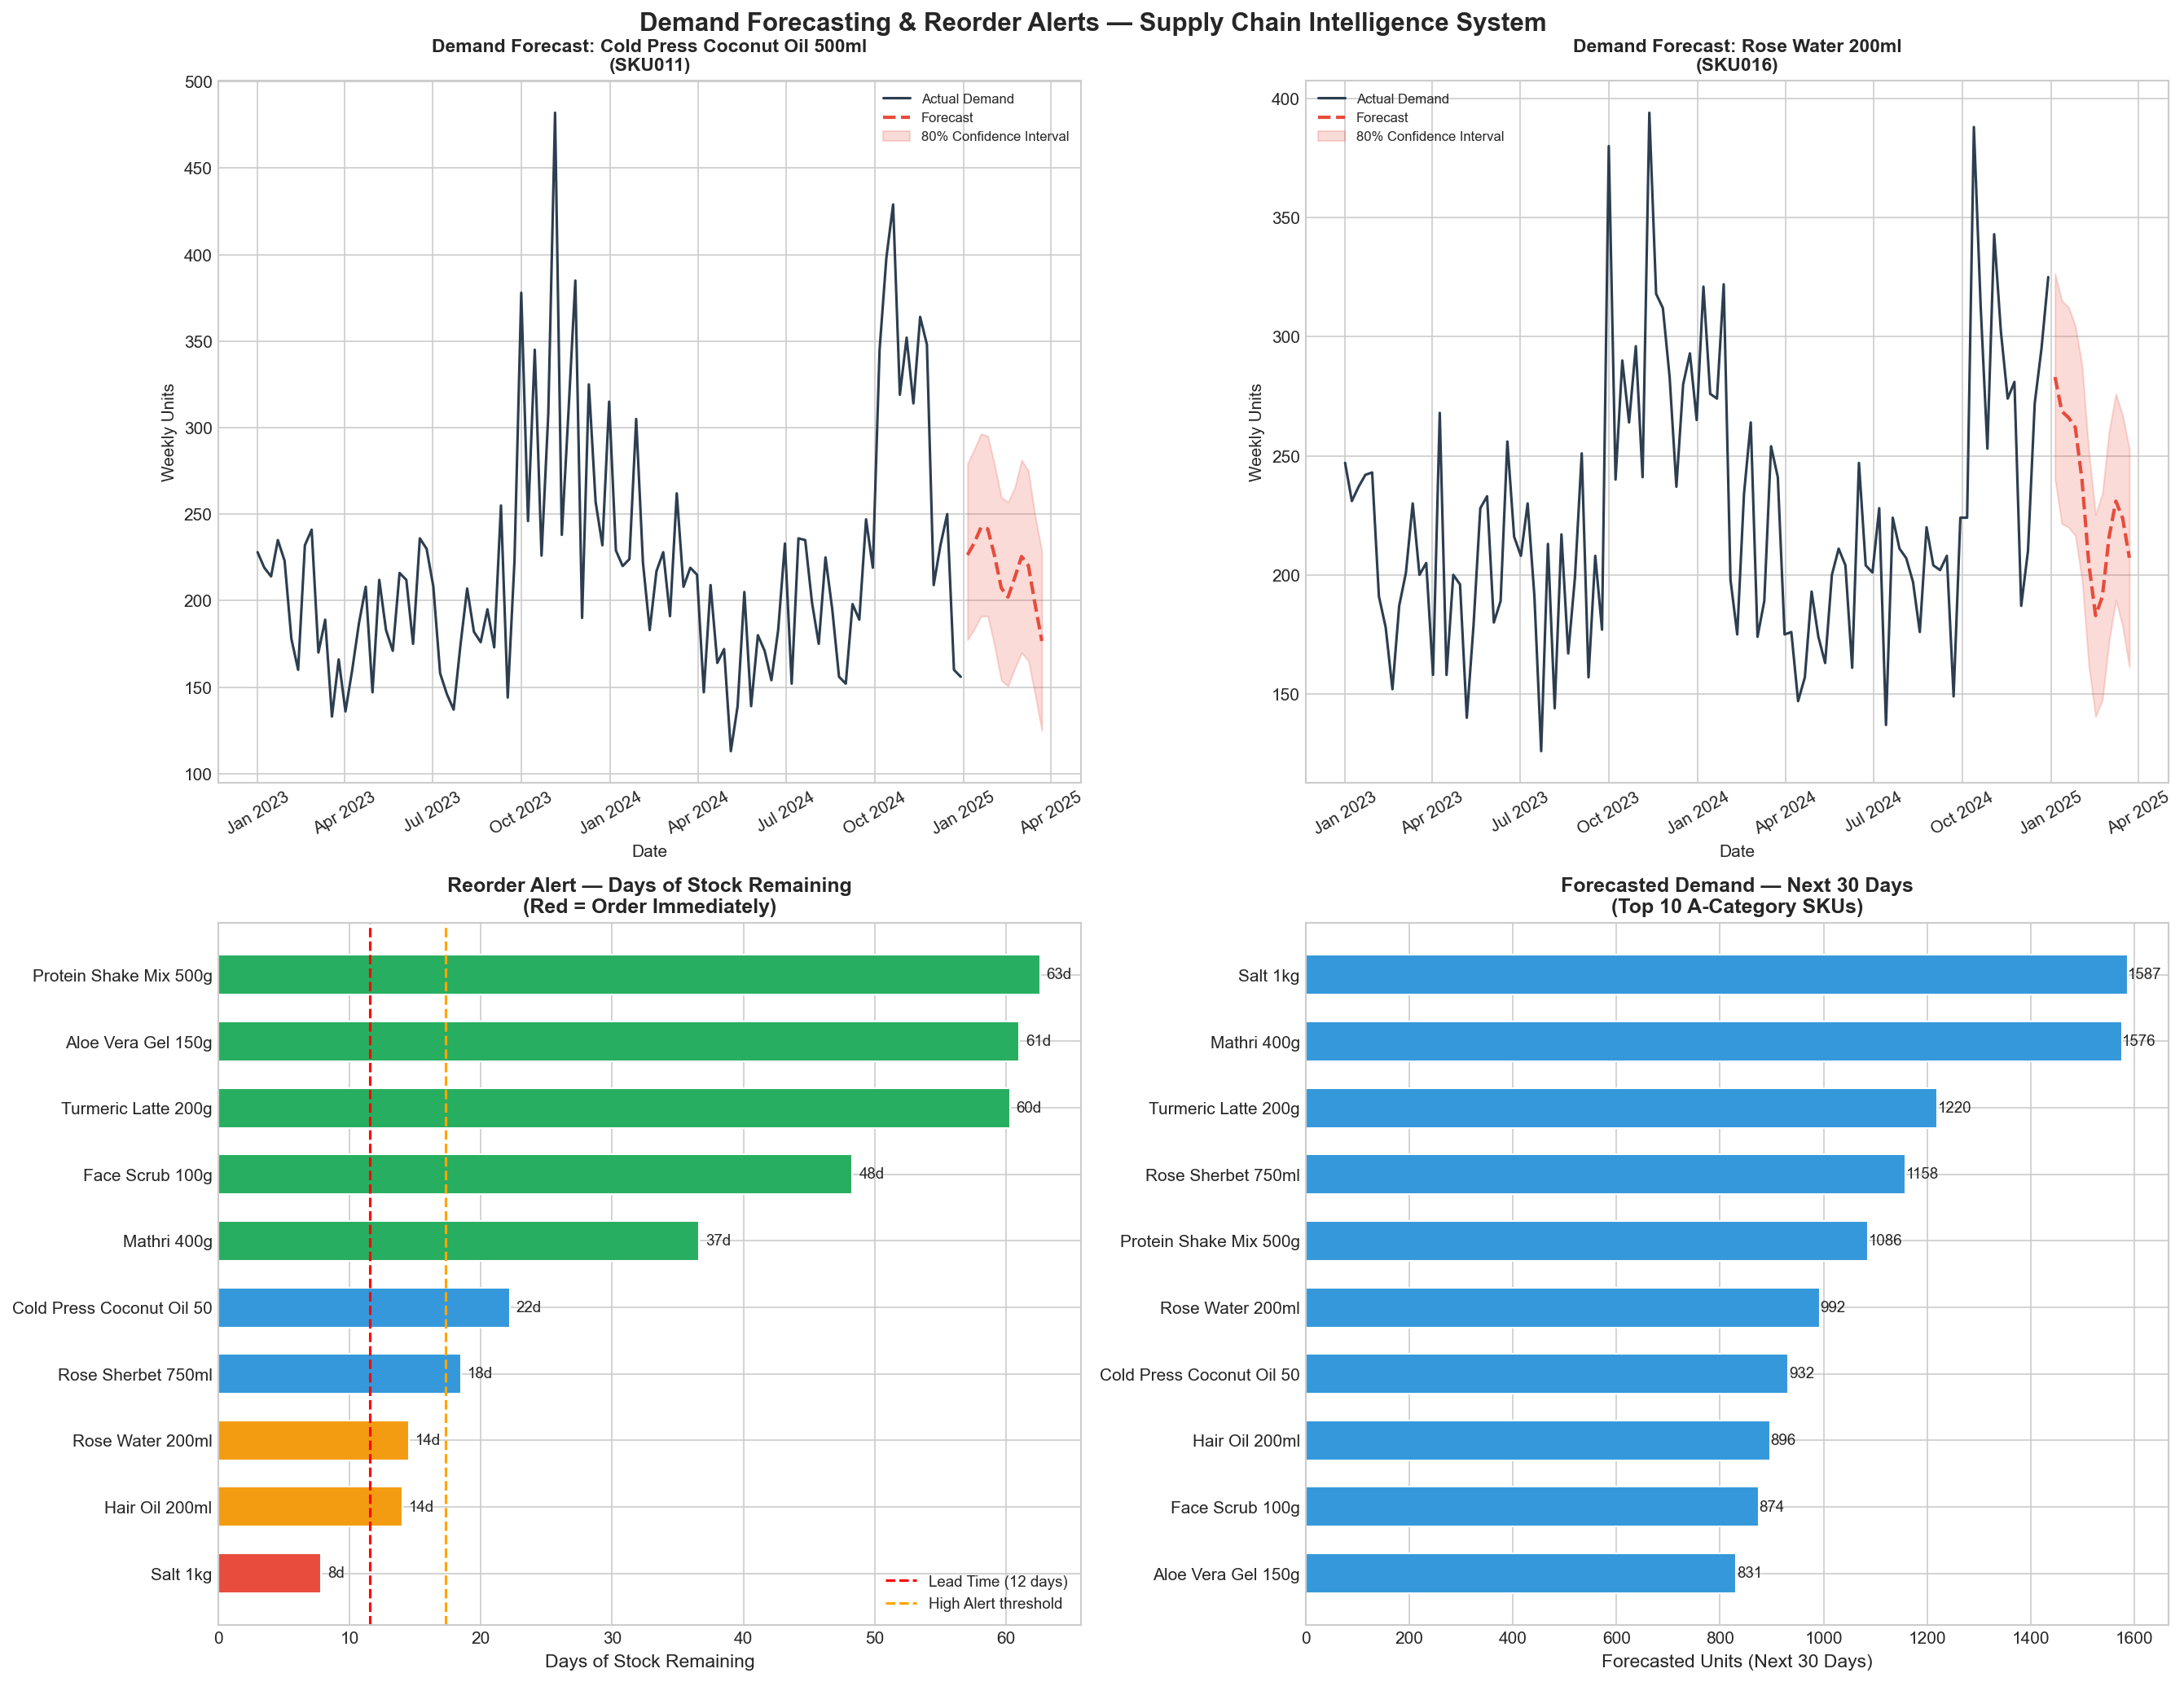

This screenshot's page, from the dashboard's own definition file:
{"tool":"powerbi","page":{"name":"Demand Forecast & Reorder Alerts","canvas":[1280,720],"ordinal":3},"visuals":[{"type":"textbox","box":[1.5,0,1278.6,81],"z":0},{"type":"card","fields":{"Values":["_Measures.Total Reorder Value"]},"box":[14.1,89.1,300.3,129.8],"z":1000},{"type":"card","fields":{"Values":["_Measures.Avg Days of Stock Remaining"]},"box":[968,89.1,300.3,129.8],"z":2000},{"type":"card","fields":{"Values":["_Measures.Urgent Reorders"]},"box":[331.5,89.1,300.3,129.8],"z":3000},{"type":"card","fields":{"Values":["_Measures.High Alert Reorders"]},"box":[650.6,89.1,300.3,129.8],"z":4000},{"type":"tableEx","title":"Reorder Alert Dashboard - Ranked by Urgency","fields":{"Values":["reorder_alerts.sku_id","reorder_alerts.product_name","Sum(reorder_alerts.current_stock)","Sum(reorder_alerts.days_of_stock)","Sum(reorder_alerts.demand_next_7d)","Sum(reorder_alerts.demand_next_14d)","Sum(reorder_alerts.demand_next_30d)","Sum(reorder_alerts.reorder_value_inr)","reorder_alerts.urgency"]},"box":[14.1,229.9,628,237.7],"z":5000},{"type":"lineChart","title":"12-Week Demand Forecast - Top A-Category SKUs","fields":{"Category":["demand_forecast.forecast_date.Variation.Date Hierarchy.Year","demand_forecast.forecast_date.Variation.Date Hierarchy.Quarter","demand_forecast.forecast_date.Variation.Date Hierarchy.Month","demand_forecast.forecast_date.Variation.Date Hierarchy.Day"],"Y":["Sum(demand_forecast.forecasted_units)"],"Series":["demand_forecast.sku_id"]},"box":[14.1,473.9,558,242.4],"z":6000},{"type":"clusteredBarChart","title":"Days of Stock Remaining per SKU","fields":{"Y":["Sum(reorder_alerts.days_of_stock)"],"Category":["reorder_alerts.product_name"]},"box":[578.6,473.9,342.5,242.4],"z":7000},{"type":"clusteredColumnChart","title":"Average Forecasted Weekly Demand by SKU","fields":{"Category":["demand_forecast.sku_id"],"Y":["Avg(demand_forecast.forecasted_units)"]},"box":[927.4,473.9,342.5,242.4],"z":8000},{"type":"tableEx","title":"ML Model - Incoming PO Delay Predictions","fields":{"Values":["new_po_predictions.supplier_name","Sum(new_po_predictions.delay_probability)","new_po_predictions.predicted_outcome","new_po_predictions.risk_level"]},"box":[650.6,229.9,617.7,237.7],"z":9000}]}

Visuals, with their boxes on the page's 1280x720 design canvas (x1, y1, x2, y2). These are canvas units, not pixel positions in the 2184x1682 screenshot, which may show the page scaled, cropped or inside an application window:
textbox: 2 0 1280 81
card - _Measures.Total Reorder Value: 14 89 314 219
card - _Measures.Avg Days of Stock Remaining: 968 89 1268 219
card - _Measures.Urgent Reorders: 332 89 632 219
card - _Measures.High Alert Reorders: 651 89 951 219
"Reorder Alert Dashboard - Ranked by Urgency" tableEx: 14 230 642 468
"12-Week Demand Forecast - Top A-Category SKUs" lineChart: 14 474 572 716
"Days of Stock Remaining per SKU" clusteredBarChart: 579 474 921 716
"Average Forecasted Weekly Demand by SKU" clusteredColumnChart: 927 474 1270 716
"ML Model - Incoming PO Delay Predictions" tableEx: 651 230 1268 468
